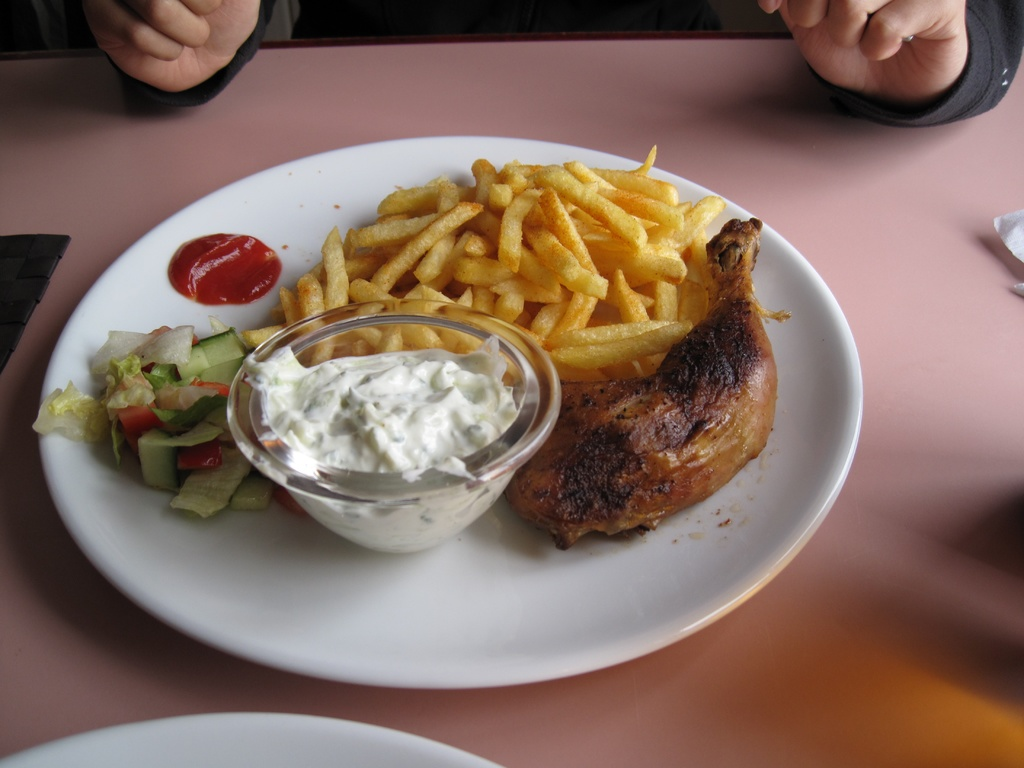French fries: (236, 138, 739, 387)
